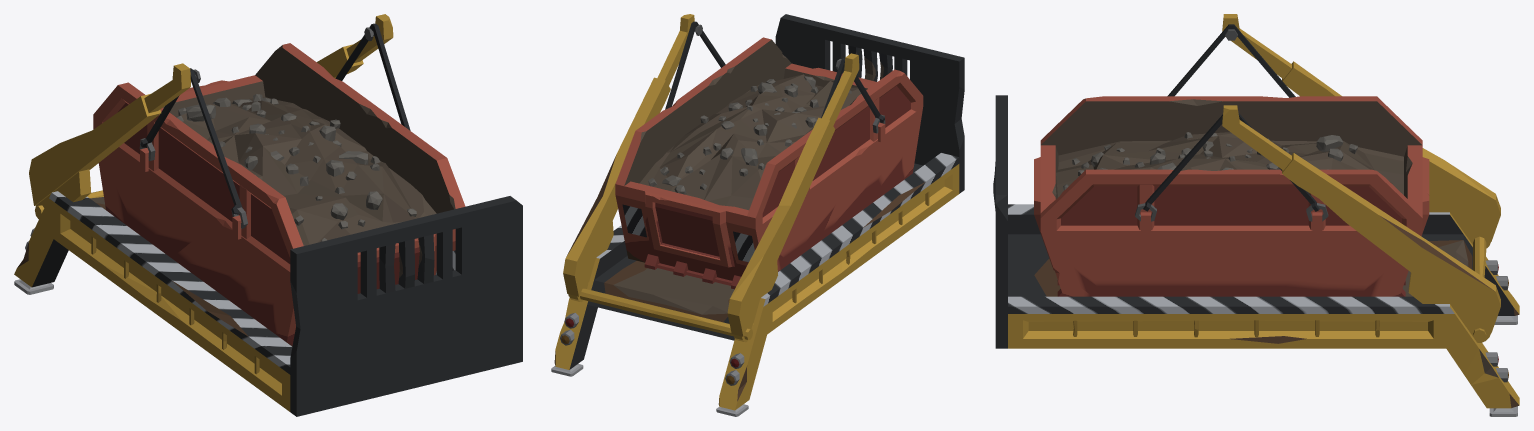
The model's file is SM_Veh_Truck_01_DumpsterTray.fbx.
The picture shows the model from 3 angles, left to right: view 1: azimuth 30°, elevation 25°; view 2: azimuth 150°, elevation 25°; view 3: azimuth 270°, elevation 25°; orthographic projection. The views are drawn at different scales.
Visible parts, largest first — view 1: SM_Veh_Truck_01_DumpsterTray, SM_Veh_Truck_01_DumpsterTray_Dumpster, SM_Veh_Truck_01_DumpsterTray_Arms, SM_Veh_Truck_01_DumpsterTray_Cables; view 2: SM_Veh_Truck_01_DumpsterTray_Dumpster, SM_Veh_Truck_01_DumpsterTray, SM_Veh_Truck_01_DumpsterTray_Arms, SM_Veh_Truck_01_DumpsterTray_Cables; view 3: SM_Veh_Truck_01_DumpsterTray_Dumpster, SM_Veh_Truck_01_DumpsterTray, SM_Veh_Truck_01_DumpsterTray_Arms, SM_Veh_Truck_01_DumpsterTray_Cables.
Boxes of the visible parts, box(x1,y1,x2,y2) form: SM_Veh_Truck_01_DumpsterTray: box(14, 190, 522, 416); SM_Veh_Truck_01_DumpsterTray_Dumpster: box(93, 43, 465, 346); SM_Veh_Truck_01_DumpsterTray_Arms: box(29, 14, 393, 207); SM_Veh_Truck_01_DumpsterTray_Cables: box(139, 23, 410, 228); SM_Veh_Truck_01_DumpsterTray_Dumpster: box(615, 37, 923, 289); SM_Veh_Truck_01_DumpsterTray: box(551, 14, 964, 416); SM_Veh_Truck_01_DumpsterTray_Arms: box(563, 14, 859, 342); SM_Veh_Truck_01_DumpsterTray_Cables: box(665, 21, 885, 133); SM_Veh_Truck_01_DumpsterTray_Dumpster: box(1034, 96, 1429, 296); SM_Veh_Truck_01_DumpsterTray: box(993, 95, 1519, 416); SM_Veh_Truck_01_DumpsterTray_Arms: box(1222, 14, 1500, 342); SM_Veh_Truck_01_DumpsterTray_Cables: box(1135, 24, 1328, 221).
Size of the model in its own units: 292 by 398 by 626.
